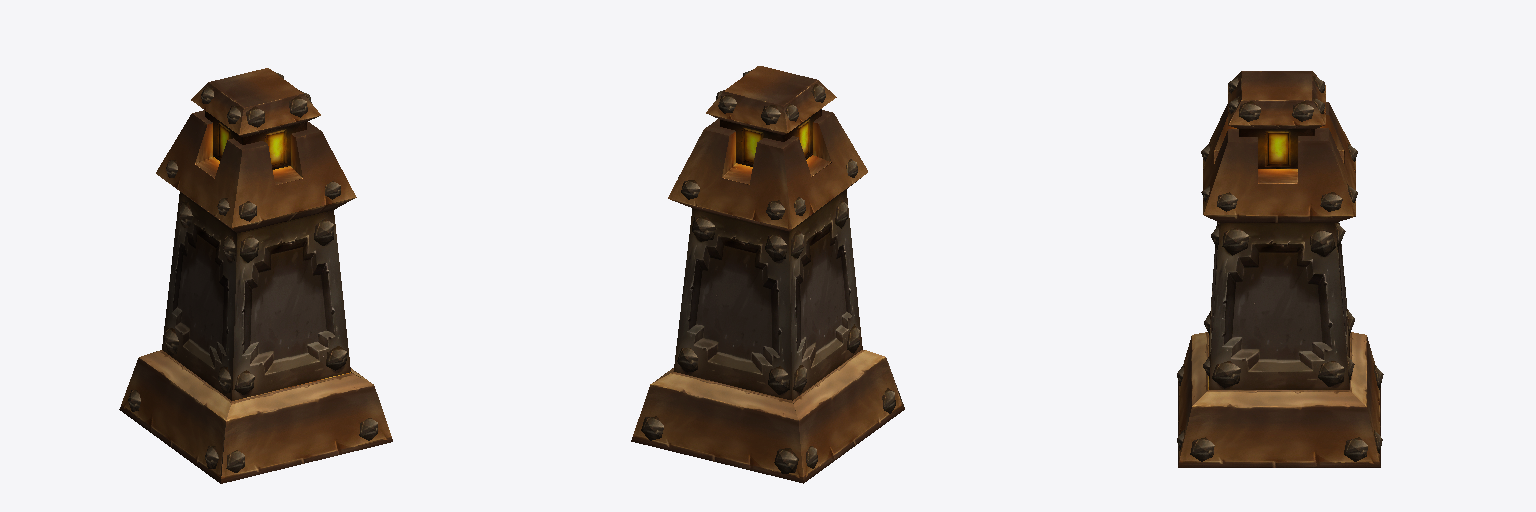
3 renders of one model, left to right at view 1: azimuth 30°, elevation 25°; view 2: azimuth 150°, elevation 25°; view 3: azimuth 270°, elevation 25°, orthographic.
Visible parts, largest first — view 1: ironforgesignpost; view 2: ironforgesignpost; view 3: ironforgesignpost.
Part boxes in pixels (bbox=[...]): ironforgesignpost: bbox=[119, 68, 392, 483]; ironforgesignpost: bbox=[631, 66, 904, 483]; ironforgesignpost: bbox=[1177, 71, 1383, 467].
Size of the model in its own units: 3.11 by 5.73 by 3.17.
1 materials, 1 textured.